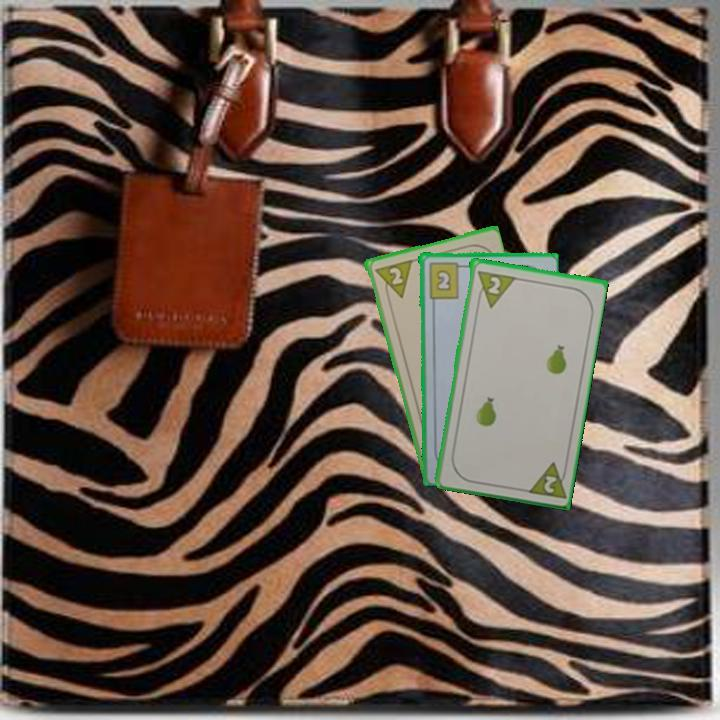2b: (425, 258, 467, 301)
2p: (522, 457, 570, 501), (371, 256, 414, 304), (473, 267, 516, 310)
